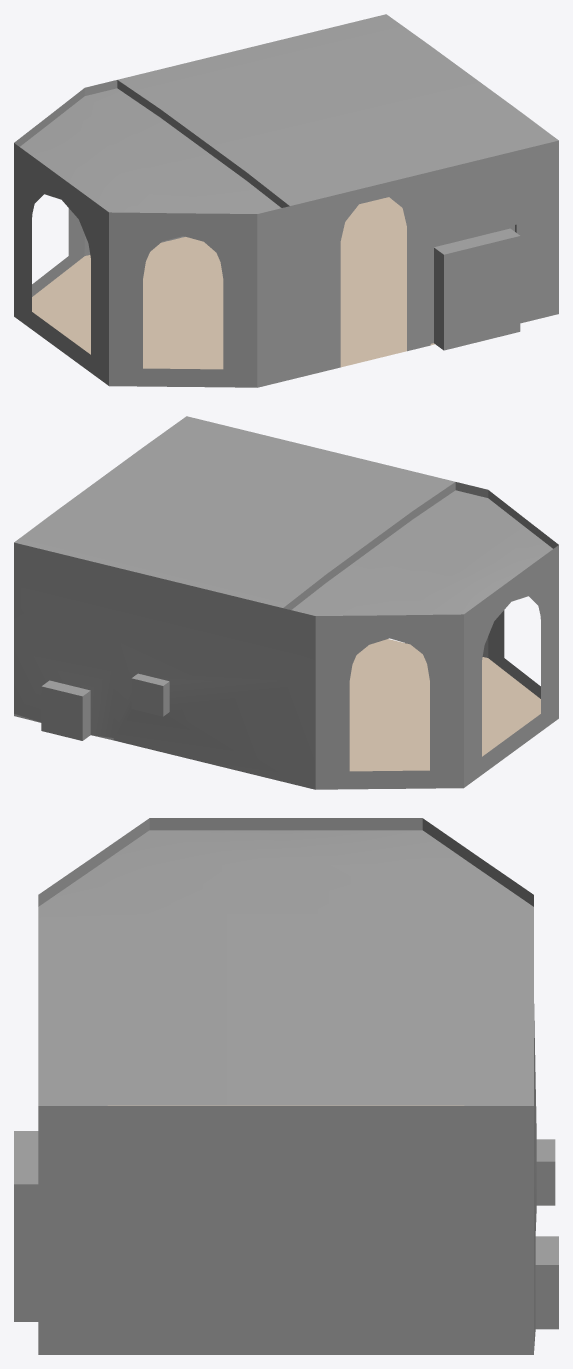
File: ACT2_Room_fin.fbx
The picture shows the model from 3 angles, top to bottom: view 1: azimuth 30°, elevation 25°; view 2: azimuth 150°, elevation 25°; view 3: azimuth 270°, elevation 25°; orthographic projection. The views are drawn at different scales.
Parts seen in each view (by area): view 1: mesh_Walls, mesh_Ceiling, mesh_Floor; view 2: mesh_Walls, mesh_Ceiling, mesh_Floor; view 3: mesh_Walls, mesh_Ceiling.
Boxes of the visible parts, x1,y1,x2,y2 form: mesh_Walls: [14, 80, 558, 387]; mesh_Ceiling: [20, 14, 558, 213]; mesh_Floor: [32, 197, 434, 369]; mesh_Walls: [14, 482, 558, 789]; mesh_Ceiling: [14, 416, 552, 615]; mesh_Floor: [349, 639, 540, 771]; mesh_Walls: [14, 818, 558, 1354]; mesh_Ceiling: [38, 830, 533, 1105].
Bounding box in the file's own units: 879 × 359 × 702.
